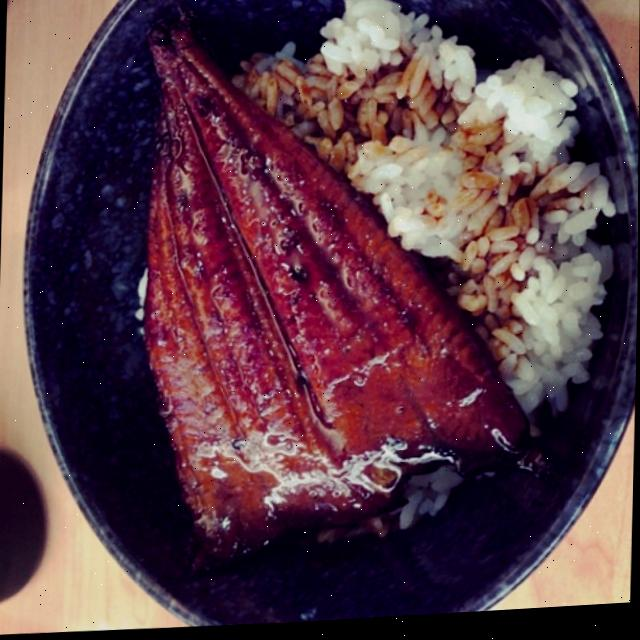熟制海鲜: (83, 0, 616, 594)
